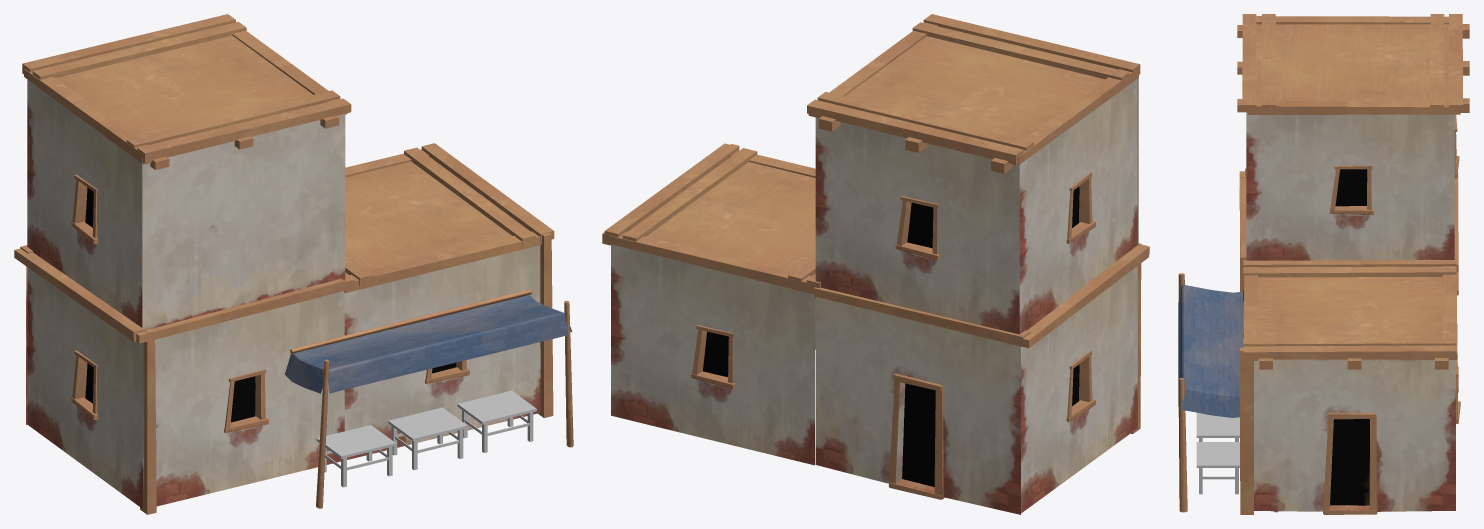
The model's file is SM_house_6.fbx.
The picture shows the model from 3 angles, left to right: view 1: azimuth 30°, elevation 25°; view 2: azimuth 150°, elevation 25°; view 3: azimuth 270°, elevation 25°; orthographic projection. The views are drawn at different scales.
Parts seen in each view (by area): view 1: kit1_window_wall41, kit1_carpet7, polySurface1003, group29_pCube1297, group29_pCube1296, polySurface1004, polySurface1051, group29_pCube1298, polySurface1050, polySurface1049; view 2: kit1_window_wall41, polySurface1004, polySurface1005, polySurface1051; view 3: kit1_window_wall41, kit1_carpet7, polySurface1050, group29_pCube1296, group29_pCube1297, polySurface1003, polySurface1005.
Boxes of the visible parts, x1,y1,x2,y2 form: kit1_window_wall41: [22, 14, 554, 509]; kit1_carpet7: [285, 295, 573, 508]; polySurface1003: [136, 278, 344, 343]; group29_pCube1297: [388, 407, 467, 470]; group29_pCube1296: [457, 390, 536, 452]; polySurface1004: [14, 248, 146, 341]; polySurface1051: [140, 328, 156, 514]; group29_pCube1298: [316, 425, 395, 487]; polySurface1050: [538, 233, 553, 417]; polySurface1049: [290, 289, 531, 353]; kit1_window_wall41: [602, 14, 1140, 514]; polySurface1004: [1015, 245, 1148, 348]; polySurface1005: [814, 287, 1030, 346]; polySurface1051: [1131, 243, 1141, 433]; kit1_window_wall41: [1237, 14, 1469, 514]; kit1_carpet7: [1178, 273, 1278, 512]; polySurface1050: [1239, 347, 1253, 514]; group29_pCube1296: [1196, 442, 1239, 494]; group29_pCube1297: [1196, 412, 1239, 441]; polySurface1003: [1239, 171, 1246, 266]; polySurface1005: [1454, 173, 1458, 271].
Size of the model in its own units: 9.15 by 7.47 by 6.04.
